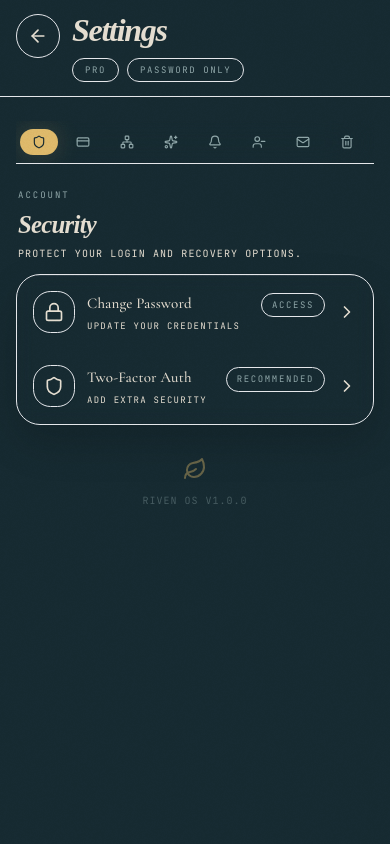
Settings LMS sync › renders tier-aware AI details and capability labels from the limits payload
The image size is (390, 844).
Click the 4th tab named "Study Tools" at (171, 142), box [152,129,190,155]
(page scrolled)
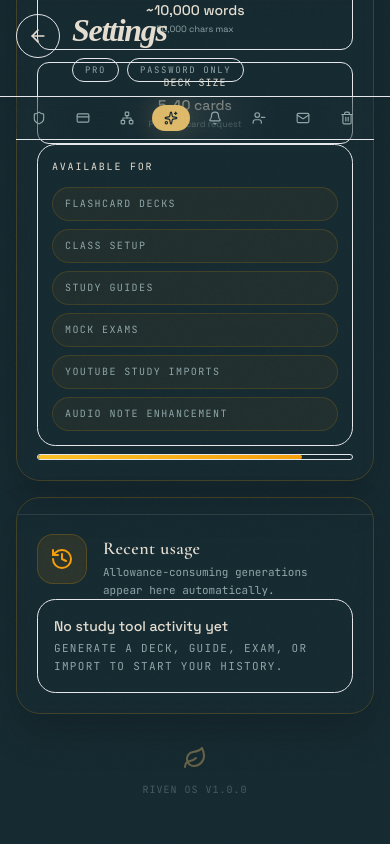
Now the text "~10,000 words" is shown, box [146,0,244,20]
Now the text "50,000 chars max" is shown, box [156,22,234,37]
Now the text "5-40 cards" is shown, box [158,95,232,115]
